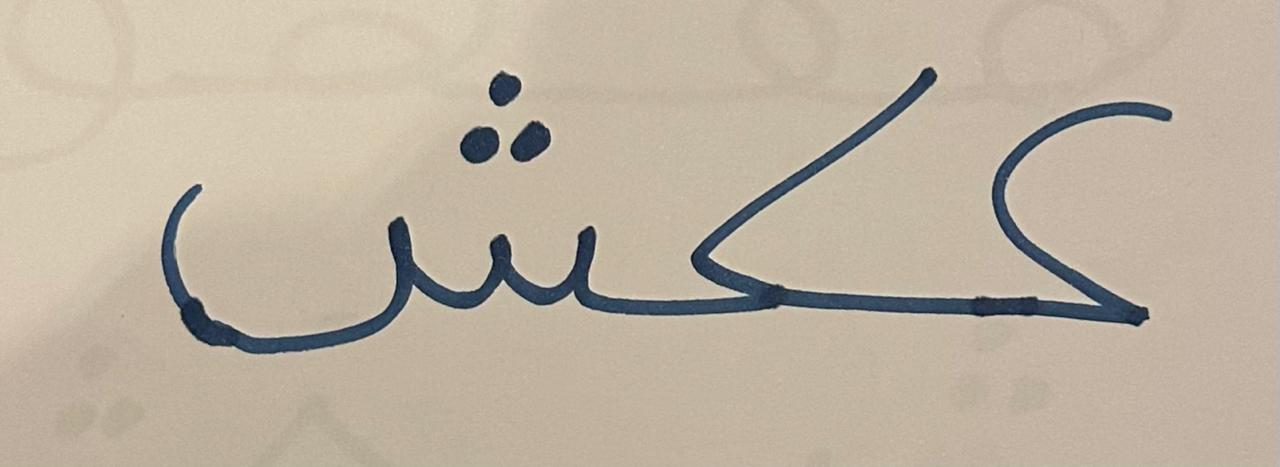ain: (970, 36, 1218, 385)
khah: (642, 13, 964, 406)
tah: (121, 1, 636, 411)
